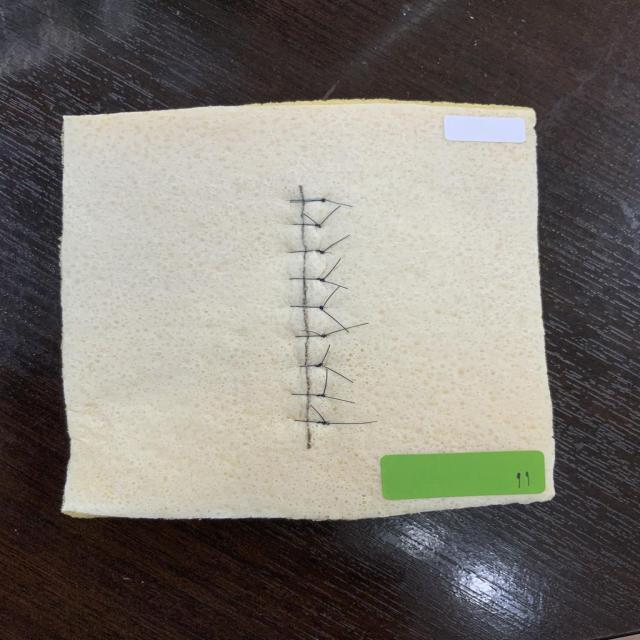knot: (314, 419, 332, 427), (312, 361, 326, 369), (314, 276, 327, 284), (314, 248, 327, 256), (314, 392, 328, 399), (312, 222, 324, 230), (318, 332, 329, 340), (317, 304, 326, 312), (318, 197, 328, 204)
leftover: (321, 309, 350, 333), (320, 364, 354, 383), (324, 322, 370, 336), (321, 234, 350, 253), (318, 205, 341, 226), (321, 258, 341, 281), (322, 285, 341, 308), (309, 404, 327, 424), (324, 395, 356, 404), (322, 198, 354, 207), (323, 280, 348, 290), (302, 213, 320, 226), (320, 344, 331, 365), (328, 420, 378, 424), (322, 368, 328, 396), (301, 330, 322, 336), (289, 199, 324, 202), (323, 251, 332, 254)
stitch: (289, 305, 324, 311), (294, 420, 330, 425), (289, 198, 324, 203), (288, 278, 326, 282), (290, 393, 326, 397), (290, 250, 325, 254), (294, 334, 327, 338), (298, 362, 323, 367), (292, 224, 321, 228)
wound: (299, 185, 310, 449)
